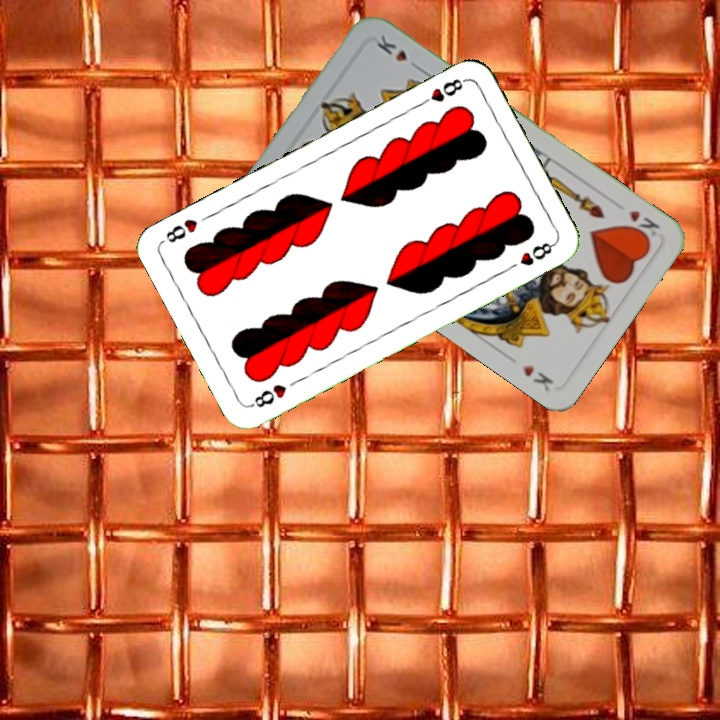H8: (414, 74, 469, 109), (246, 380, 290, 410)
HK: (623, 206, 663, 245)
